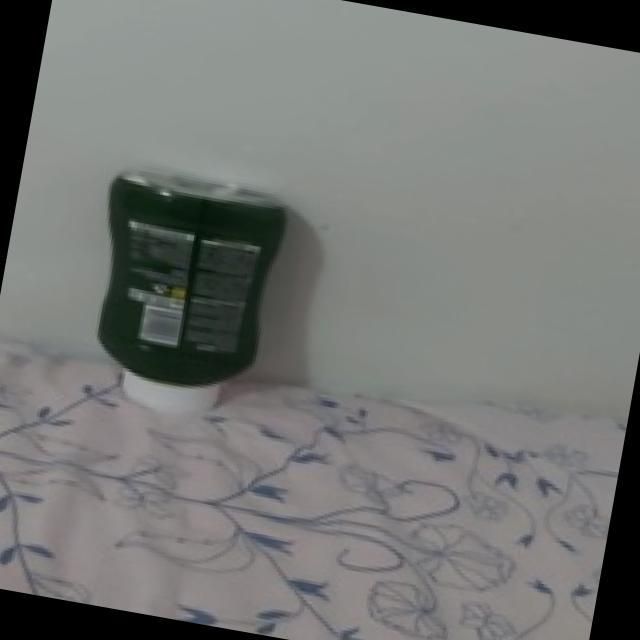good: (66, 140, 304, 430)
